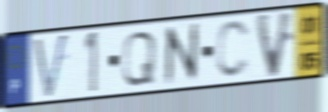1: (82, 29, 100, 97)
C: (214, 18, 252, 81)
N: (163, 20, 201, 89)
Q: (120, 29, 159, 88)
V: (253, 9, 297, 81), (32, 30, 71, 102)
